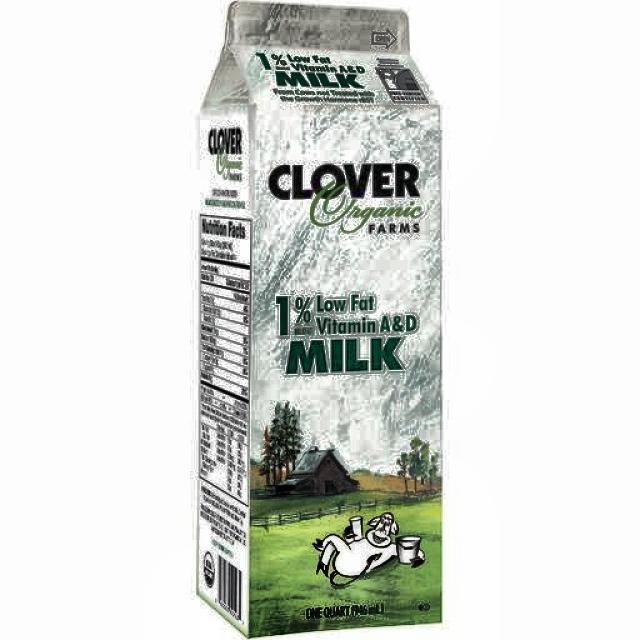cardboard: (195, 0, 444, 636)
